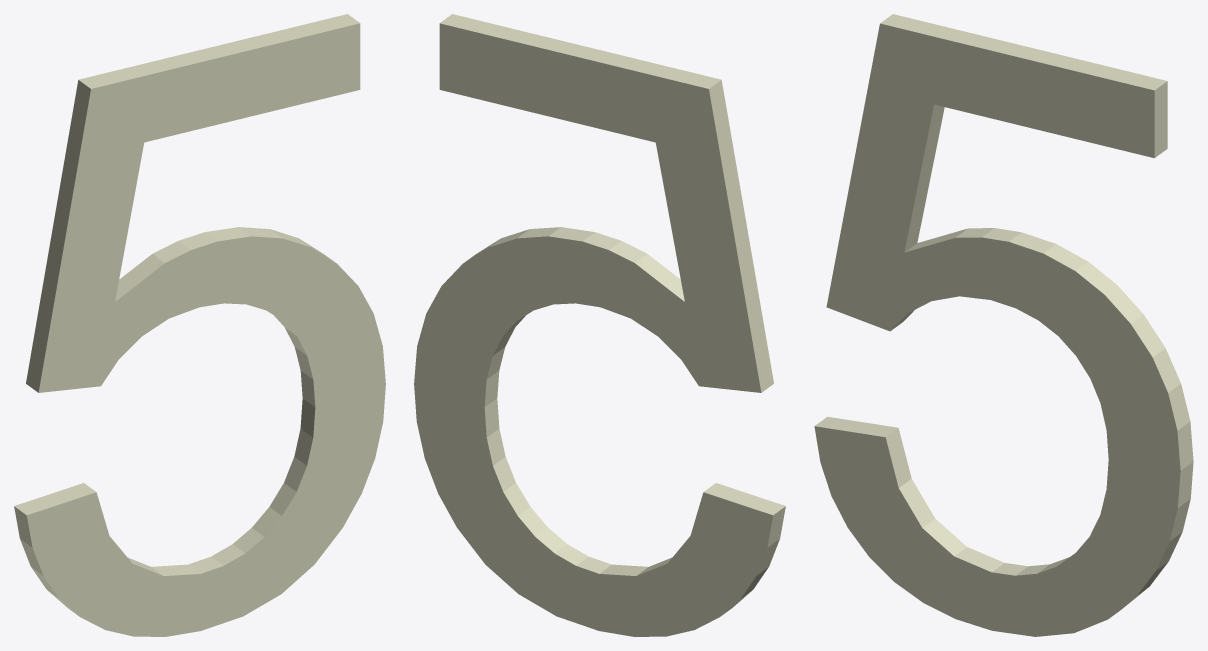
File: original-100.obj
3 views of the same model, side by side, from view 1: azimuth 30°, elevation 25°; view 2: azimuth 150°, elevation 25°; view 3: azimuth 330°, elevation 25° (orthographic).
Visible parts, largest first — view 1: _5_1/_5/mesh141/mesh141-geometry#mesh141-geometry; view 2: _5_1/_5/mesh141/mesh141-geometry#mesh141-geometry; view 3: _5_1/_5/mesh141/mesh141-geometry#mesh141-geometry.
Boxes of the visible parts, bbox=[...] form: _5_1/_5/mesh141/mesh141-geometry#mesh141-geometry: bbox=[14, 14, 385, 636]; _5_1/_5/mesh141/mesh141-geometry#mesh141-geometry: bbox=[414, 14, 785, 636]; _5_1/_5/mesh141/mesh141-geometry#mesh141-geometry: bbox=[814, 14, 1193, 636].
Bounding box in the file's own units: 0.0367 × 0.0555 × 0.00225.
